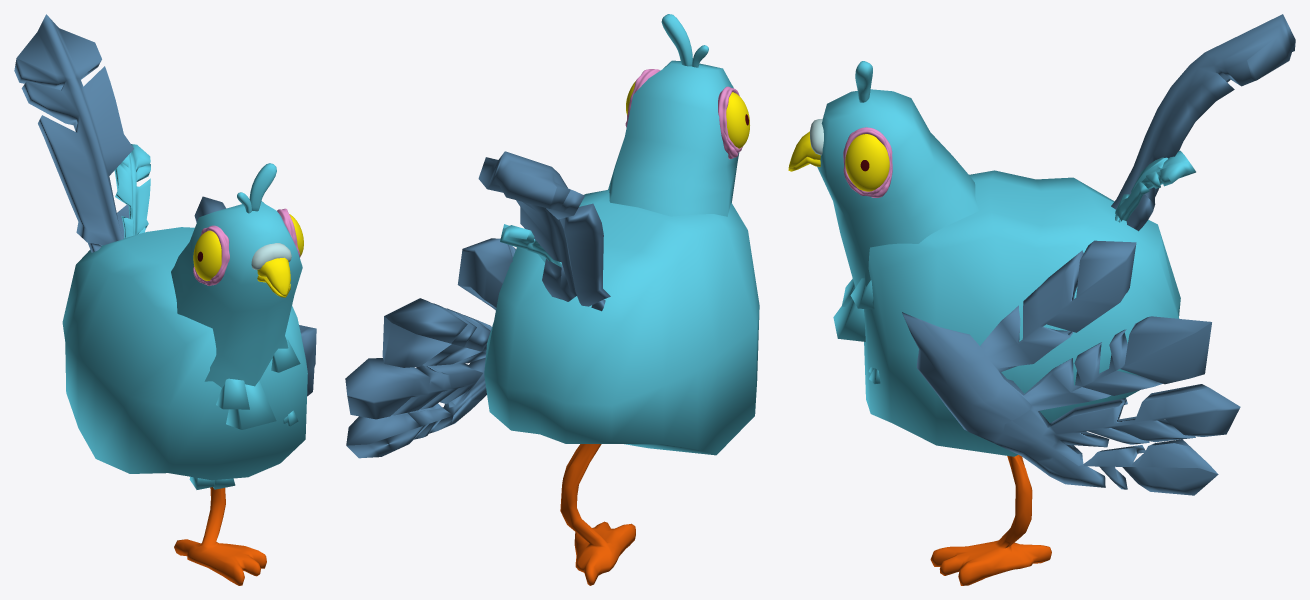
Rendered from Taube_neu_fertig.glb.
3 renders of one model, left to right at view 1: azimuth 30°, elevation 25°; view 2: azimuth 150°, elevation 25°; view 3: azimuth 270°, elevation 25°, orthographic. The views are drawn at different scales.
Parts seen in each view (by area): view 1: Körper, Schwanzfeder 1, Hals, Fuß, Schwanzfeder 2, Cube, Cube.003, Augapfel, Cube.001, Taube.001, Kopffeder 1, Auge (+2 smaller); view 2: Körper, Cube.003, Hals, Schwanzfeder 1, Fuß, Augapfel, Schwanzfeder 2, Kopffeder 1, Auge; view 3: Cube.003, Körper, Hals, Schwanzfeder 1, Fuß, Augapfel.001, Schwanzfeder 2, Cube, Auge.001.
Part boxes in pixels (x1,y1,x2,y2): Körper: (62,227,307,480); Schwanzfeder 1: (14,14,133,252); Hals: (171,201,302,387); Fuß: (174,487,266,585); Schwanzfeder 2: (114,144,150,238); Cube: (226,381,276,429); Cube.003: (194,196,316,396); Augapfel: (193,230,221,280); Cube.001: (216,378,249,409); Taube.001: (257,257,290,296); Kopffeder 1: (249,163,276,211); Auge: (193,225,229,285); Körper: (484,190,759,455); Cube.003: (345,238,515,458); Hals: (608,60,739,216); Schwanzfeder 1: (478,151,610,311); Fuß: (560,444,635,585); Augapfel: (726,92,749,148); Schwanzfeder 2: (500,224,561,267); Kopffeder 1: (661,14,692,66); Auge: (718,86,742,159); Cube.003: (902,240,1240,495); Körper: (864,170,1180,456); Hals: (817,89,978,305); Schwanzfeder 1: (1111,14,1295,231); Fuß: (930,455,1051,585); Augapfel.001: (845,134,889,191); Schwanzfeder 2: (1115,150,1195,222); Cube: (833,298,865,341); Auge.001: (843,127,892,197).
Bounding box in the file's own units: 2.62 × 4.76 × 4.12.
